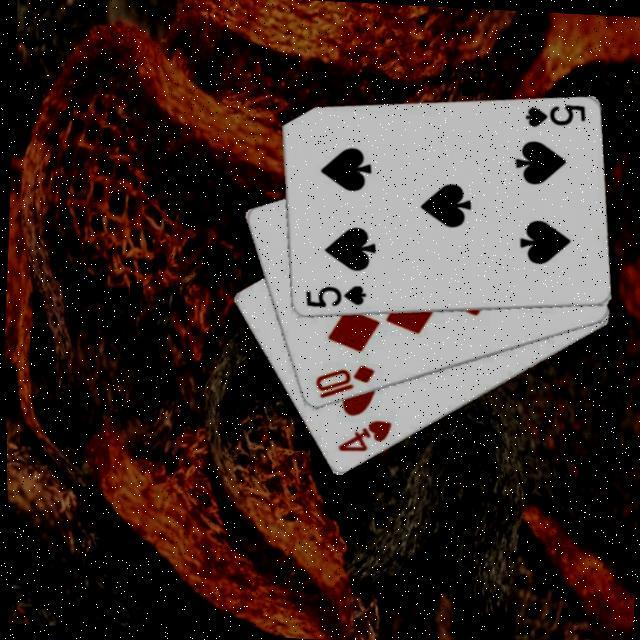10D: (308, 358, 376, 403)
4H: (330, 413, 392, 456)
5S: (299, 278, 366, 311), (519, 98, 586, 131)
